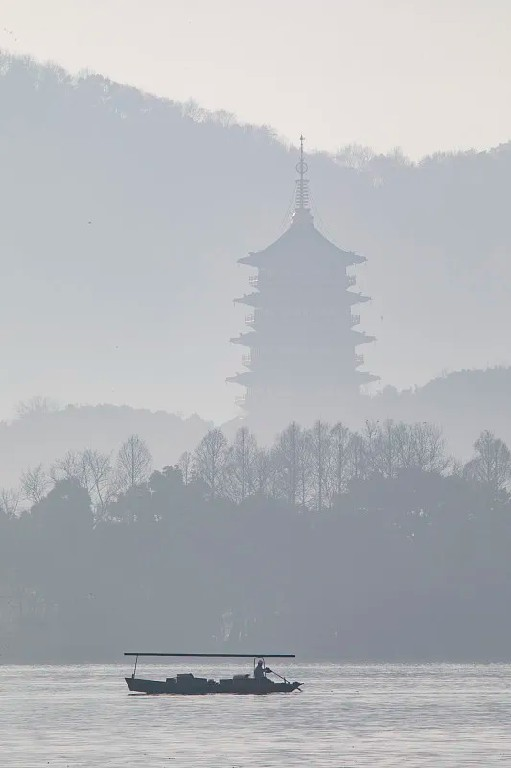Leifeng: (218, 131, 384, 431)
